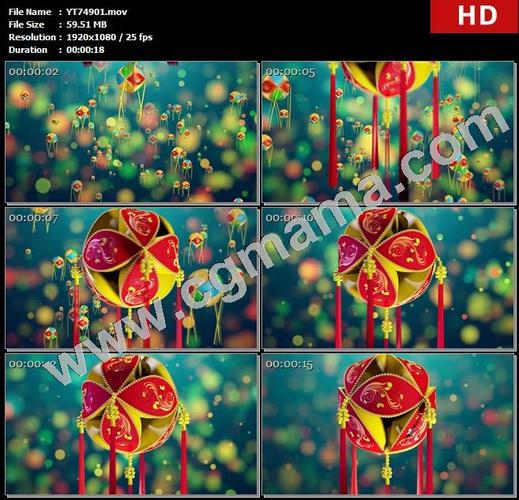xiuqiu: (334, 354, 438, 458), (331, 209, 438, 309), (81, 207, 180, 310), (81, 358, 185, 456)
